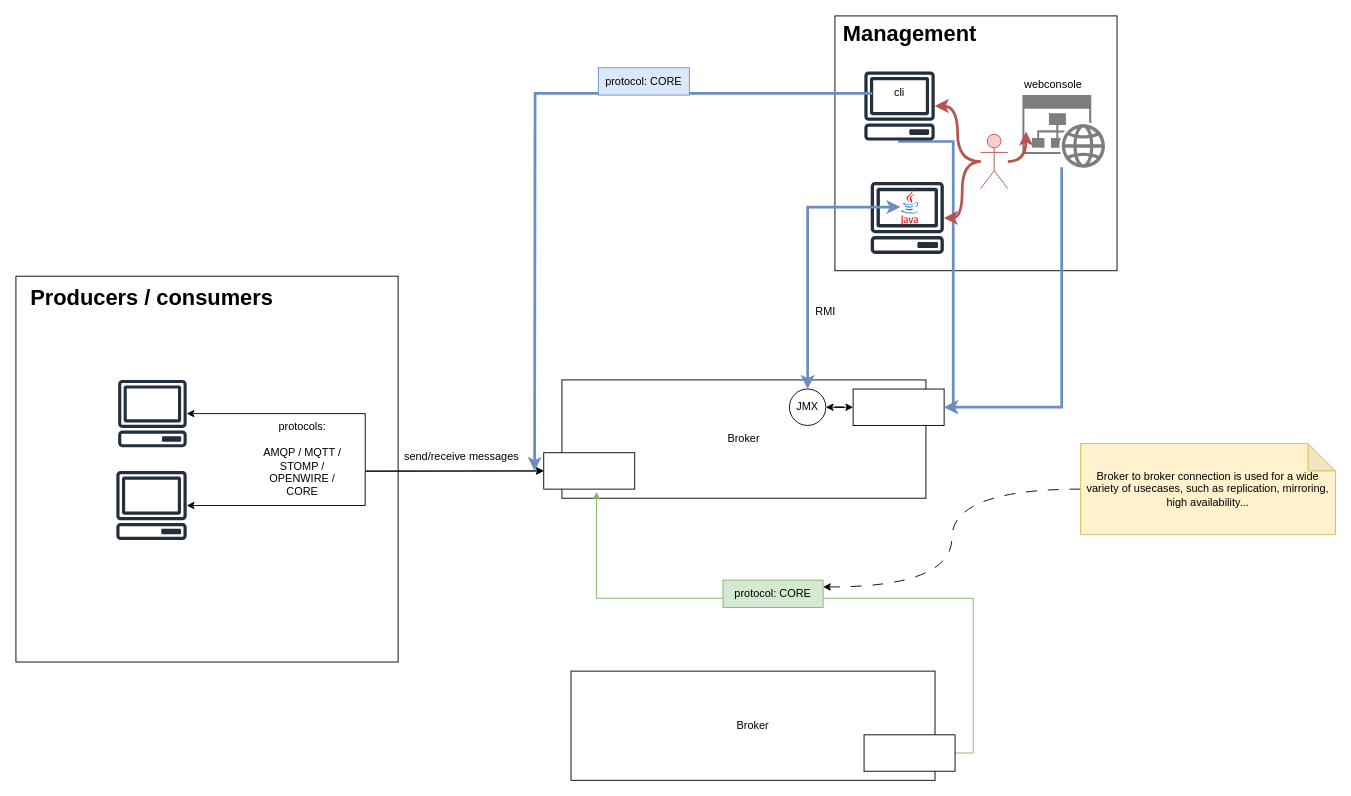
Image size: 1351x796. Some labels were removed from this diagram. Here are the shapes that lost their labels. From the top down, the centre of each, then its label:
At [994,161]: "user".
At [898,406]: "Jolokia (http)".
At [589,470]: "Acceptors".
At [909,752]: "Connectors".
